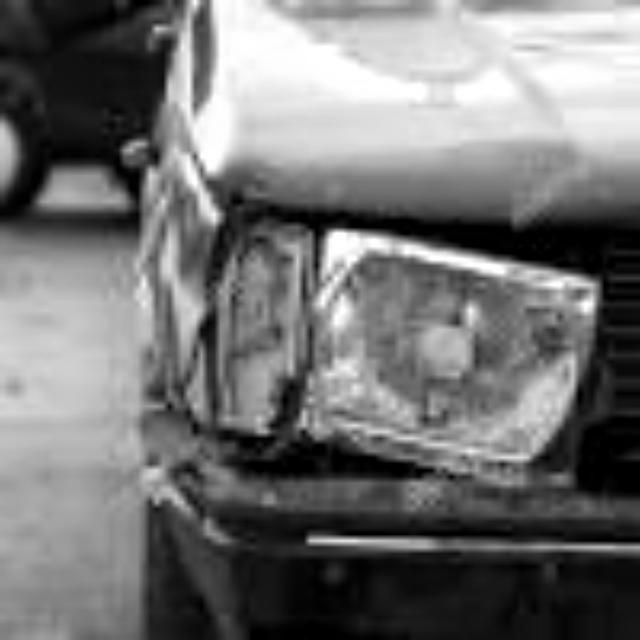Headlight-damage: (103, 199, 634, 512)
